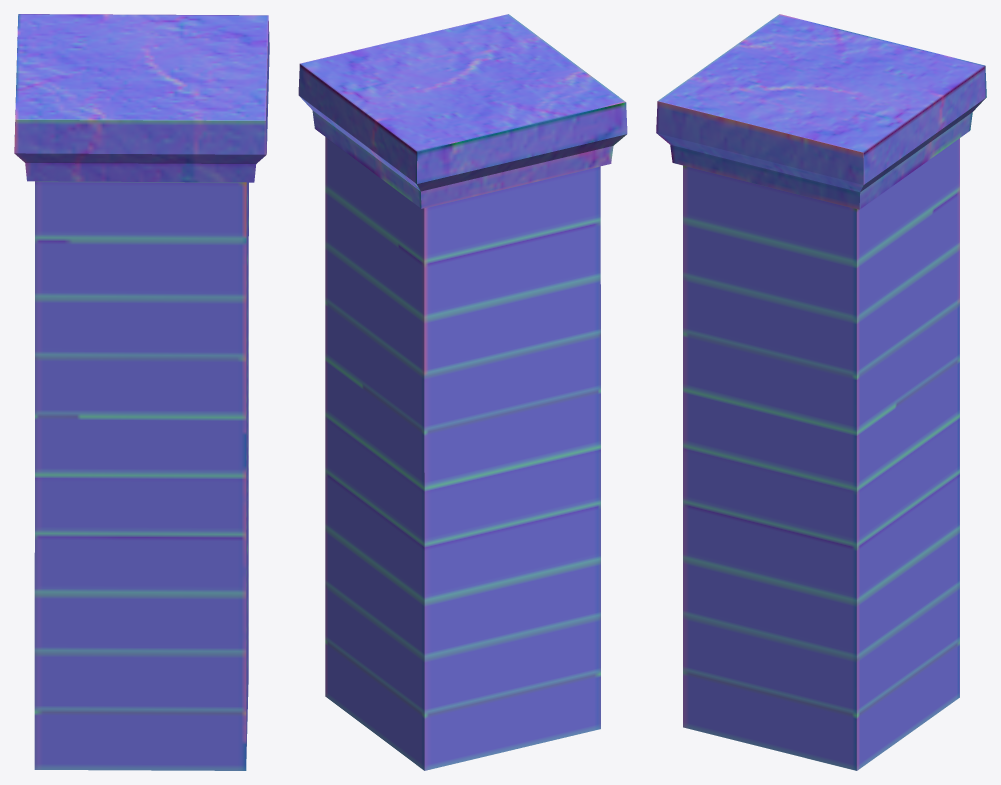
3 views of the same model, side by side, from view 1: azimuth 30°, elevation 25°; view 2: azimuth 150°, elevation 25°; view 3: azimuth 270°, elevation 25° (orthographic). The views are drawn at different scales.
Parts seen in each view (by area): view 1: pillar_low_038; view 2: pillar_low_038; view 3: pillar_low_038.
Boxes of the visible parts, x1,y1,x2,y2 form: pillar_low_038: (14,14,269,770); pillar_low_038: (298,14,627,770); pillar_low_038: (656,14,986,770).
Size of the model in its own units: 94.14 by 198 by 94.14.
